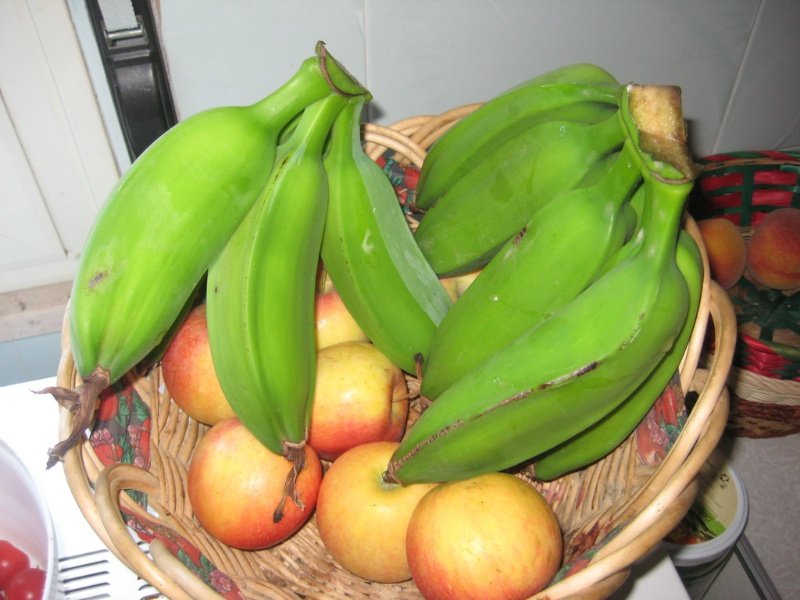banana: (63, 46, 343, 459), (412, 61, 700, 462)
